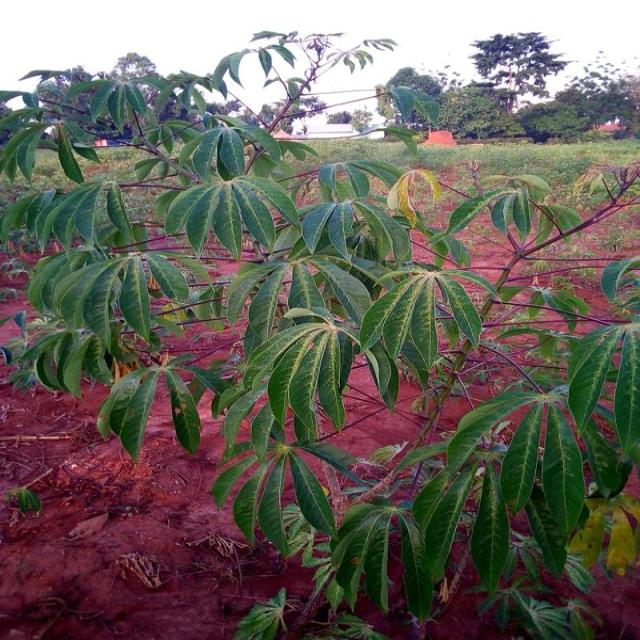cassava leaf: (2, 40, 640, 632)
